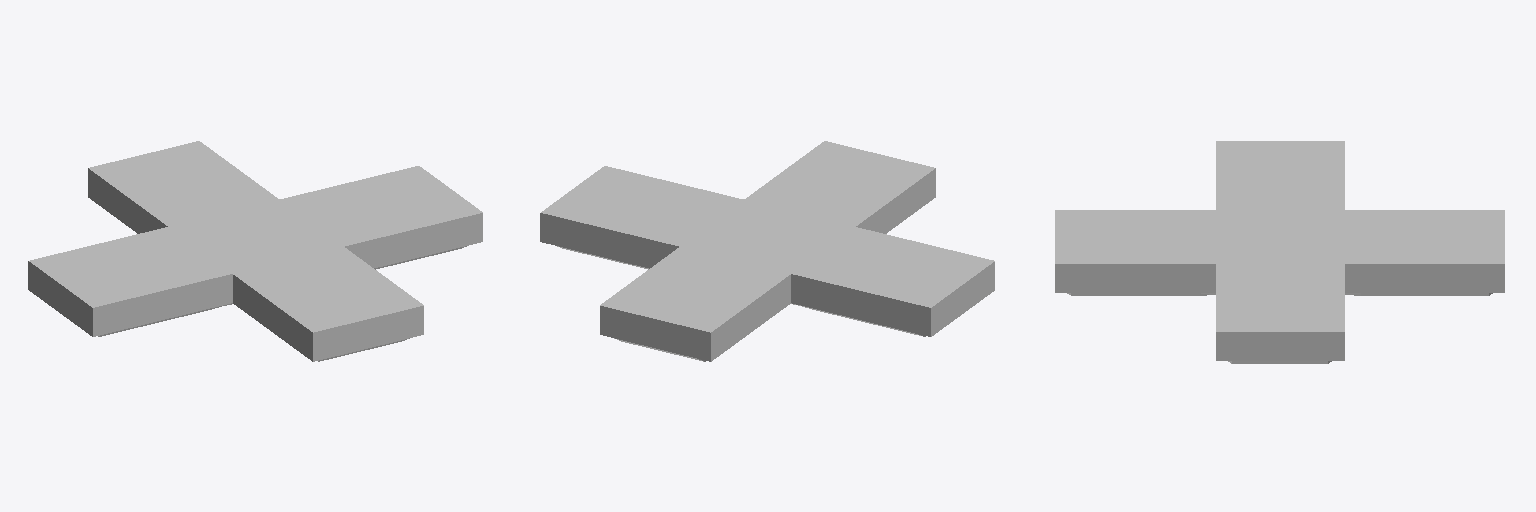
File: cross3.obj
3 renders of one model, left to right at view 1: azimuth 30°, elevation 25°; view 2: azimuth 150°, elevation 25°; view 3: azimuth 270°, elevation 25°, orthographic.
Visible parts, largest first — view 1: cross3:pCube1; view 2: cross3:pCube1; view 3: cross3:pCube1.
Part boxes in pixels (x1,y1,x2,y2): cross3:pCube1: (28,141,482,361); cross3:pCube1: (540,141,994,361); cross3:pCube1: (1055,141,1504,363).
Size of the model in its own units: 7.88 by 0.7405 by 7.86.